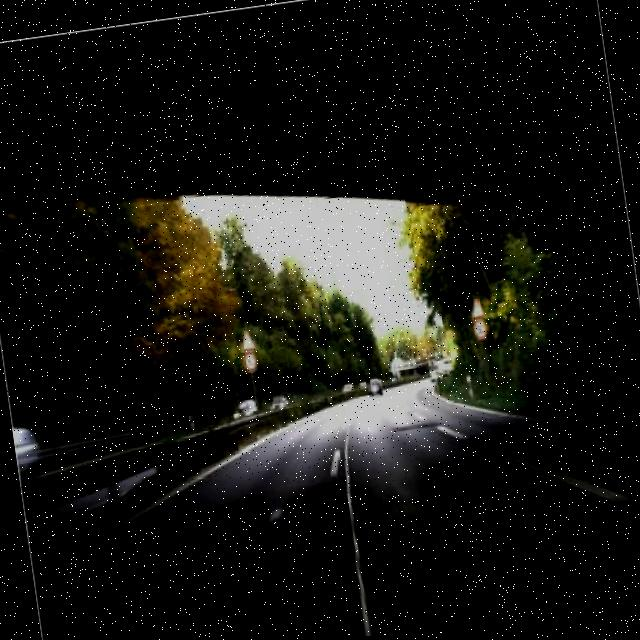Ograniczenie predkosci do 30: (240, 348, 260, 374), (472, 316, 492, 342)
